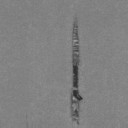slag inclusion: (70, 42, 83, 124), (72, 22, 79, 40)
